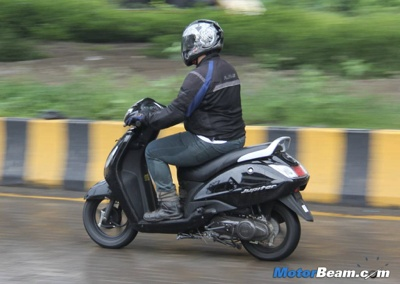helmet: (179, 15, 225, 68)
